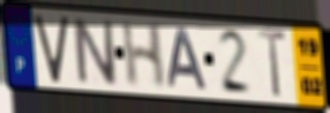2: (214, 28, 252, 95)
A: (166, 26, 210, 92)
H: (119, 20, 167, 90)
N: (70, 15, 120, 88)
T: (256, 27, 288, 100)
V: (32, 14, 71, 85)
